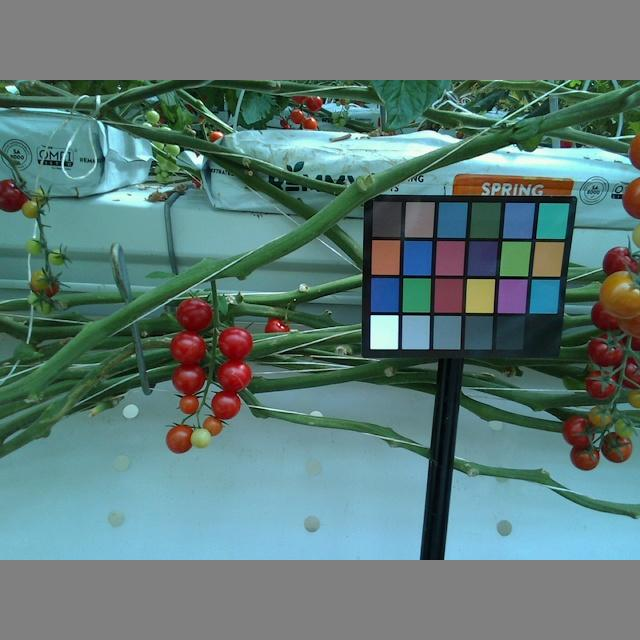green: (25, 291, 52, 316), (28, 268, 54, 293), (190, 426, 212, 449), (20, 198, 42, 218), (49, 245, 69, 266), (26, 237, 46, 255), (630, 222, 640, 247), (627, 389, 640, 408)
pink: (599, 271, 640, 319), (623, 177, 640, 218), (588, 404, 611, 427), (179, 392, 201, 416), (628, 132, 640, 170), (202, 416, 222, 434)
red: (215, 327, 255, 362), (601, 246, 640, 281), (175, 299, 215, 332), (215, 360, 251, 395), (171, 359, 206, 395), (168, 331, 205, 364), (589, 335, 623, 368), (562, 415, 594, 448), (582, 369, 617, 399), (600, 432, 635, 462), (209, 389, 243, 419), (569, 441, 601, 471), (1, 179, 26, 214), (167, 423, 197, 452)
